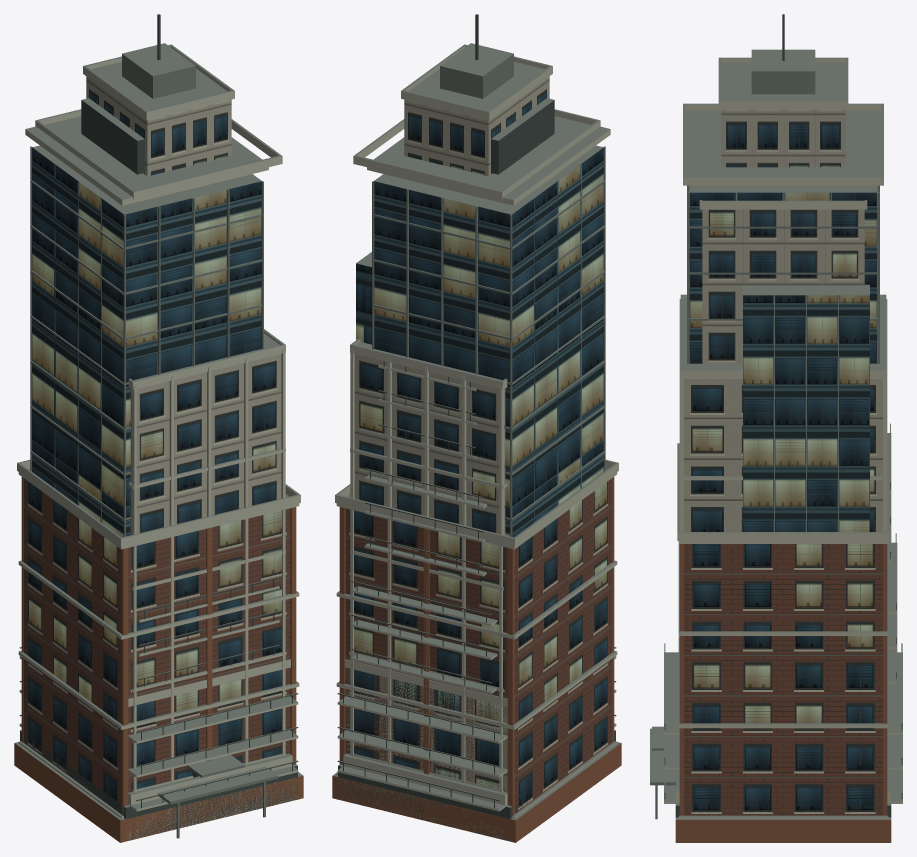
The model's file is new-eden-kit-hq.glb.
The picture shows the model from 3 angles, left to right: view 1: azimuth 30°, elevation 25°; view 2: azimuth 150°, elevation 25°; view 3: azimuth 270°, elevation 25°; orthographic projection. The views are drawn at different scales.
Parts seen in each view (by area): view 1: GlassTower, BrickWorks, LimestoneTower, GlassTower_LOD, LimestoneTower_LOD, BrickWorks_LOD, TerraceApartments, TerraceApartments_LOD; view 2: GlassTower, BrickWorks, LimestoneTower, TerraceApartments, TerraceApartments_LOD, LimestoneTower_LOD, GlassTower_LOD, BrickWorks_LOD; view 3: BrickWorks, GlassTower, LimestoneTower, BrickWorks_LOD, LimestoneTower_LOD, GlassTower_LOD, TerraceApartments, TerraceApartments_LOD.
Part boxes in pixels (x1,y1,x2,y2): GlassTower: (20, 98, 297, 840); BrickWorks: (14, 461, 303, 842); LimestoneTower: (83, 14, 292, 804); GlassTower_LOD: (20, 98, 297, 838); LimestoneTower_LOD: (83, 14, 292, 805); BrickWorks_LOD: (14, 459, 303, 842); TerraceApartments: (19, 577, 297, 840); TerraceApartments_LOD: (19, 577, 298, 811); GlassTower: (338, 98, 615, 840); BrickWorks: (332, 461, 621, 842); LimestoneTower: (343, 14, 552, 833); TerraceApartments: (338, 361, 616, 840); TerraceApartments_LOD: (337, 361, 616, 811); LimestoneTower_LOD: (343, 14, 552, 805); GlassTower_LOD: (338, 98, 615, 833); BrickWorks_LOD: (332, 459, 621, 842); BrickWorks: (652, 444, 891, 842); GlassTower: (650, 103, 891, 818); LimestoneTower: (675, 14, 891, 802); BrickWorks_LOD: (652, 443, 891, 842); LimestoneTower_LOD: (675, 14, 891, 791); GlassTower_LOD: (650, 104, 891, 819); TerraceApartments: (664, 424, 902, 801); TerraceApartments_LOD: (664, 423, 902, 803).
Size of the model in its own units: 17 by 68 by 19.9.
1 material, 1 textured.
